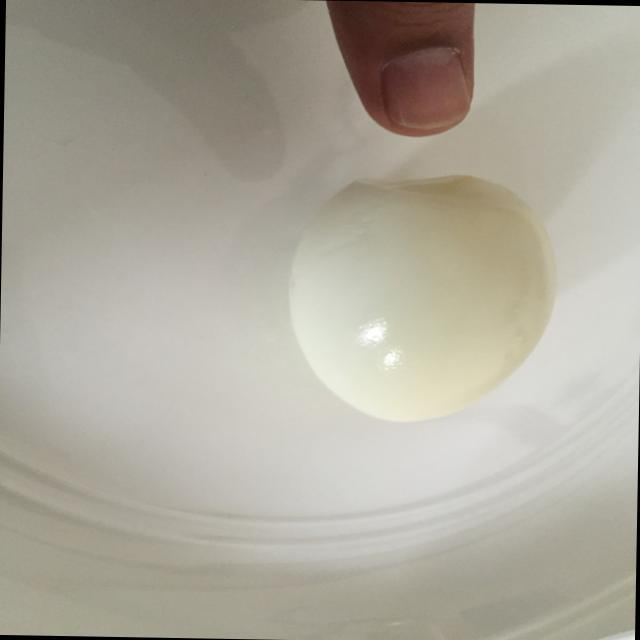Egg: (256, 157, 573, 441)
Finger: (314, 0, 498, 148)
